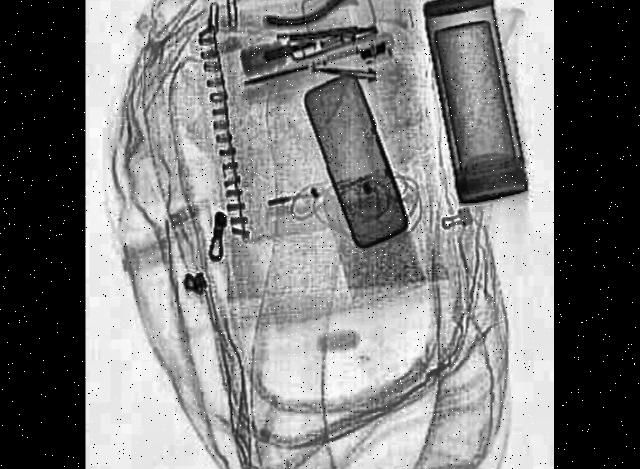Pliers: (263, 0, 420, 26)
